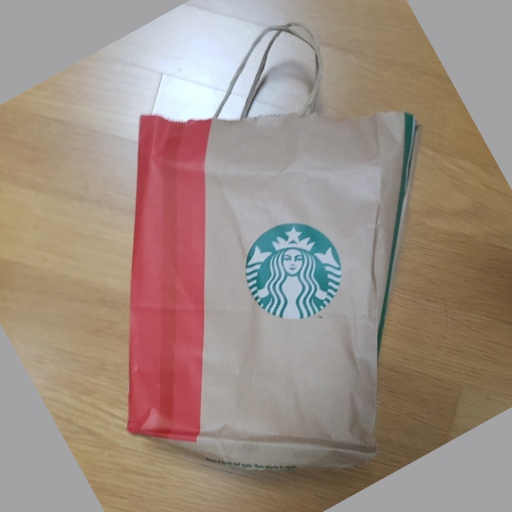Paper_0: (122, 100, 420, 484)
